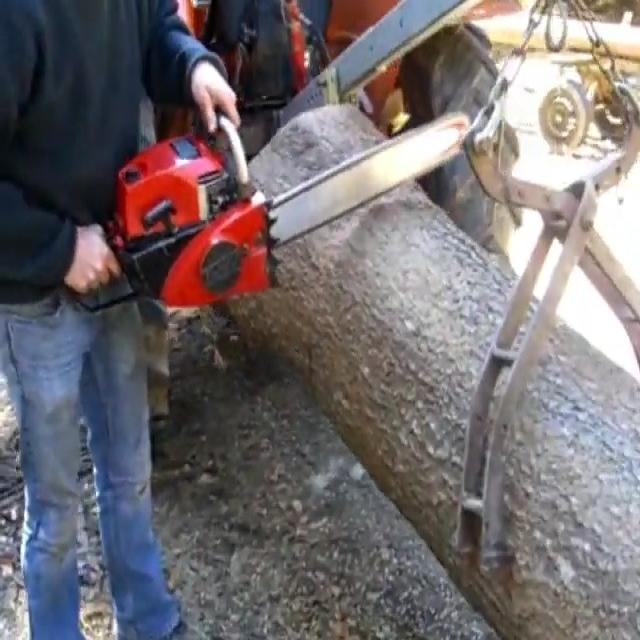Chainsaw: (70, 82, 478, 334)
